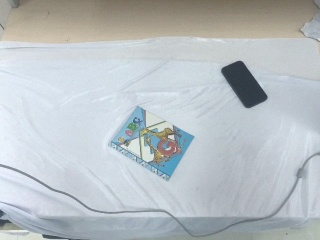book: (106, 105, 196, 182)
phone: (221, 60, 268, 109)
